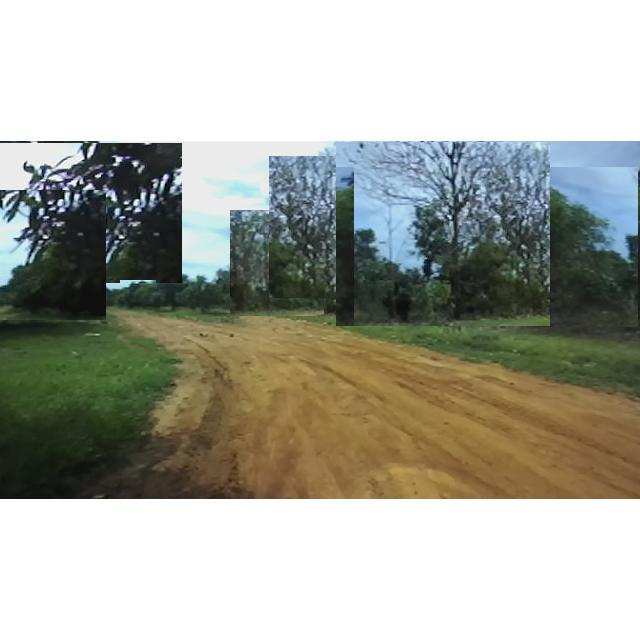direk: (336, 142, 550, 326), (0, 143, 182, 283), (269, 156, 403, 298), (532, 167, 638, 327), (0, 190, 106, 320), (230, 210, 324, 316), (467, 166, 529, 320), (140, 261, 196, 313), (507, 229, 545, 303), (120, 280, 156, 302)
